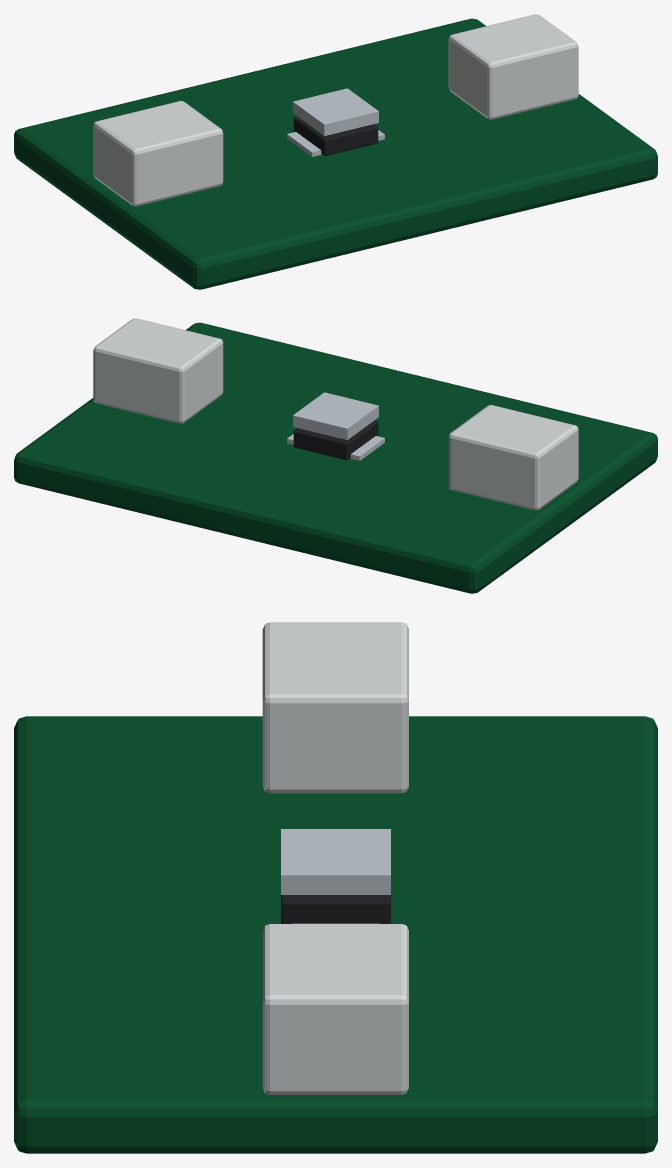
File: gas_sensor_bme688.glb
3 renders of one model, top to bottom at view 1: azimuth 30°, elevation 25°; view 2: azimuth 150°, elevation 25°; view 3: azimuth 270°, elevation 25°, orthographic. The views are drawn at different scales.
Visible parts, largest first — view 1: part_gas_sensor_bme688__pcb, part_gas_sensor_bme688__polymer, part_gas_sensor_bme688__steel, part_gas_sensor_bme688__black_polymer; view 2: part_gas_sensor_bme688__pcb, part_gas_sensor_bme688__polymer, part_gas_sensor_bme688__steel, part_gas_sensor_bme688__black_polymer; view 3: part_gas_sensor_bme688__pcb, part_gas_sensor_bme688__polymer, part_gas_sensor_bme688__steel, part_gas_sensor_bme688__black_polymer.
Boxes of the visible parts, box(x1,y1,x2,y2) form: part_gas_sensor_bme688__pcb: box(14, 18, 657, 289); part_gas_sensor_bme688__polymer: box(93, 14, 578, 206); part_gas_sensor_bme688__steel: box(287, 88, 384, 156); part_gas_sensor_bme688__black_polymer: box(293, 116, 378, 156); part_gas_sensor_bme688__pcb: box(14, 322, 657, 593); part_gas_sensor_bme688__polymer: box(93, 318, 578, 510); part_gas_sensor_bme688__steel: box(287, 392, 384, 460); part_gas_sensor_bme688__black_polymer: box(293, 420, 378, 460); part_gas_sensor_bme688__pcb: box(14, 716, 657, 1153); part_gas_sensor_bme688__polymer: box(262, 622, 408, 1094); part_gas_sensor_bme688__steel: box(281, 829, 390, 923); part_gas_sensor_bme688__black_polymer: box(281, 895, 390, 923).
Size of the model in its own units: 0.0255 by 0.0046 by 0.0176.
